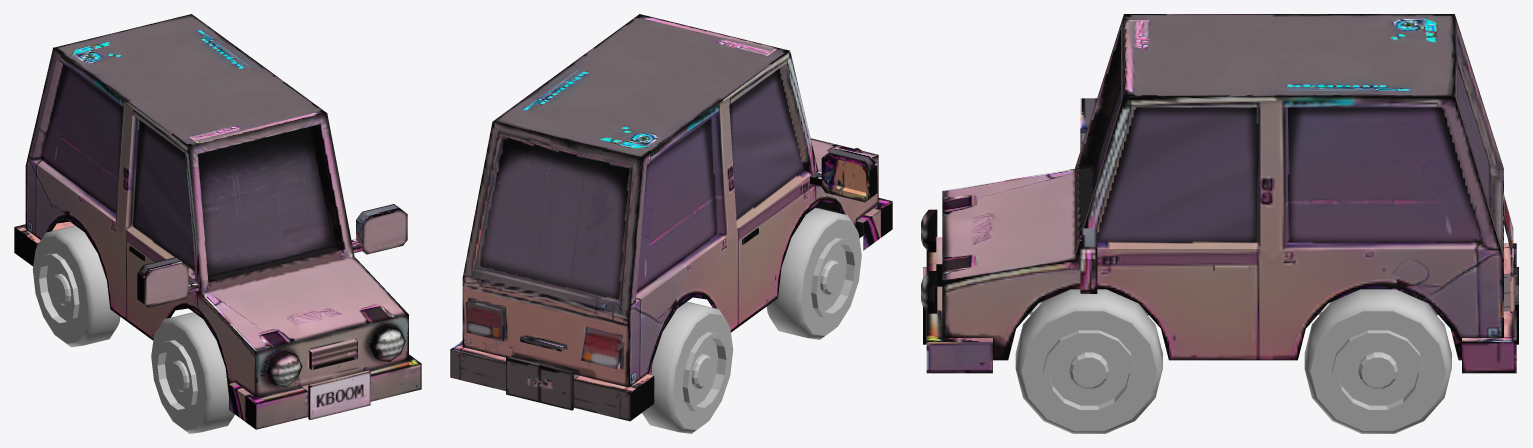
The model's file is vanc.fbx.
3 renders of one model, left to right at view 1: azimuth 30°, elevation 25°; view 2: azimuth 150°, elevation 25°; view 3: azimuth 270°, elevation 25°, orthographic. The views are drawn at different scales.
Parts seen in each view (by area): view 1: Car, Tires; view 2: Car, Tires; view 3: Car, Tires.
Boxes of the visible parts, box(x1,y1,x2,y2) form: Car: box(14, 14, 421, 429); Tires: box(32, 225, 234, 433); Car: box(450, 14, 892, 421); Tires: box(642, 207, 861, 433); Car: box(921, 14, 1518, 373); Tires: box(1015, 289, 1451, 433).
Bounding box in the file's own units: 260 × 251 × 418.
